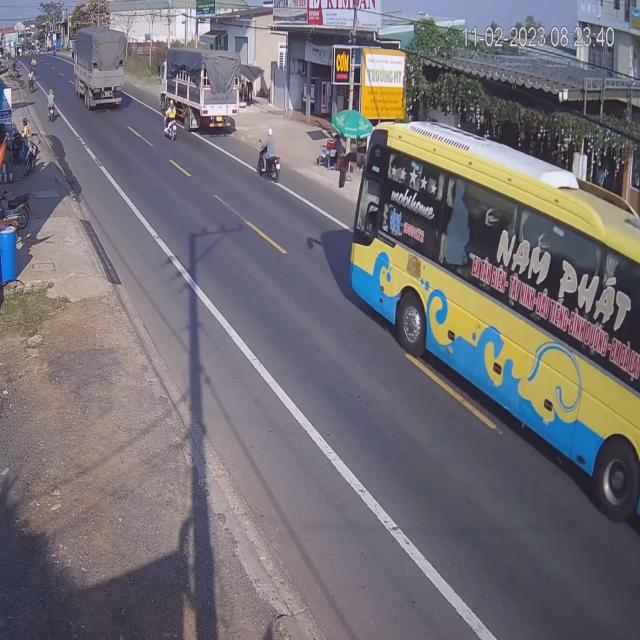bus: (350, 117, 640, 523)
motorbike: (257, 125, 282, 184), (162, 104, 176, 141), (46, 88, 57, 123)
truck: (162, 46, 237, 137), (72, 25, 123, 110)
